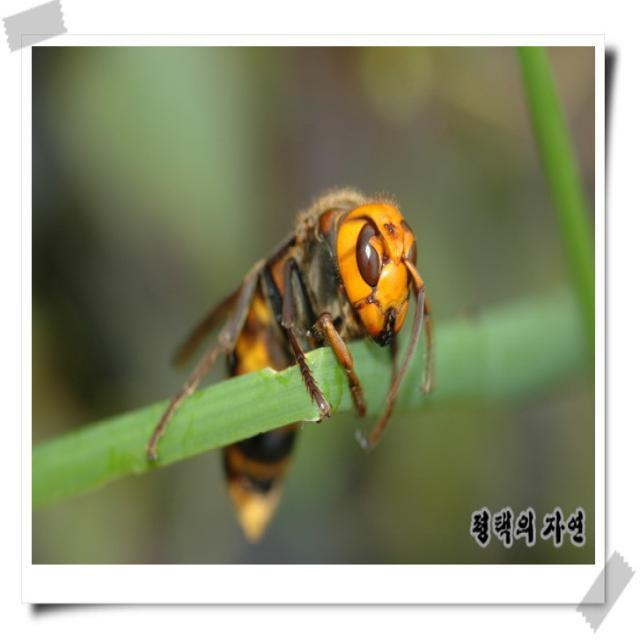Wasp: (180, 190, 438, 544)
